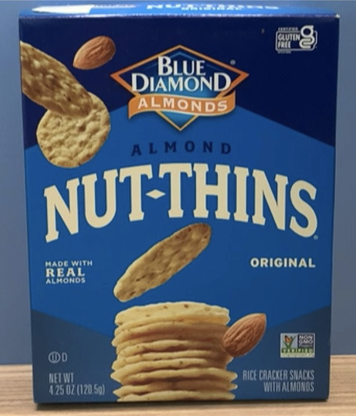crackers_100g-199g: (40, 24, 324, 403)
